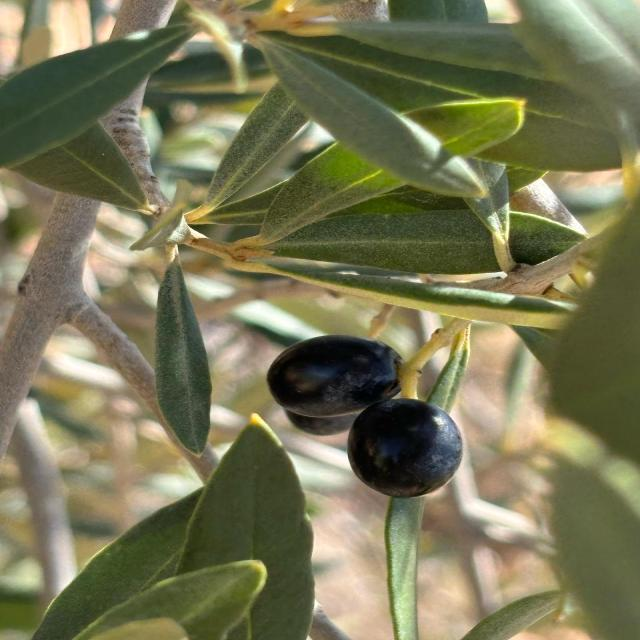Healthy: (155, 246, 211, 460), (347, 398, 462, 498), (267, 336, 401, 418)
